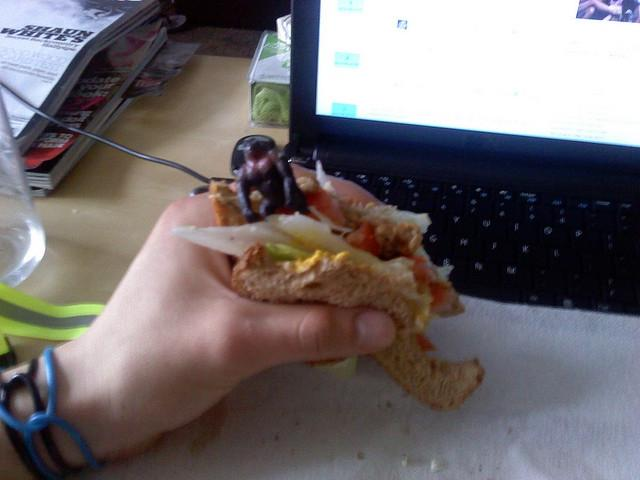tomato: (300, 192, 345, 226), (344, 220, 384, 257), (391, 254, 432, 282), (428, 282, 459, 314)
